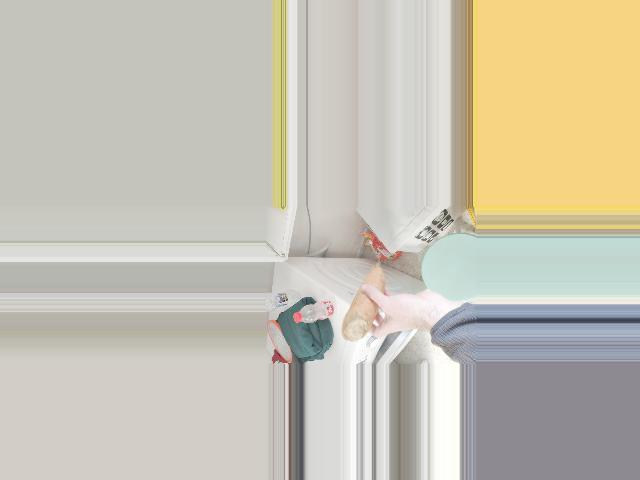sweet_potato: (338, 268, 391, 336)
